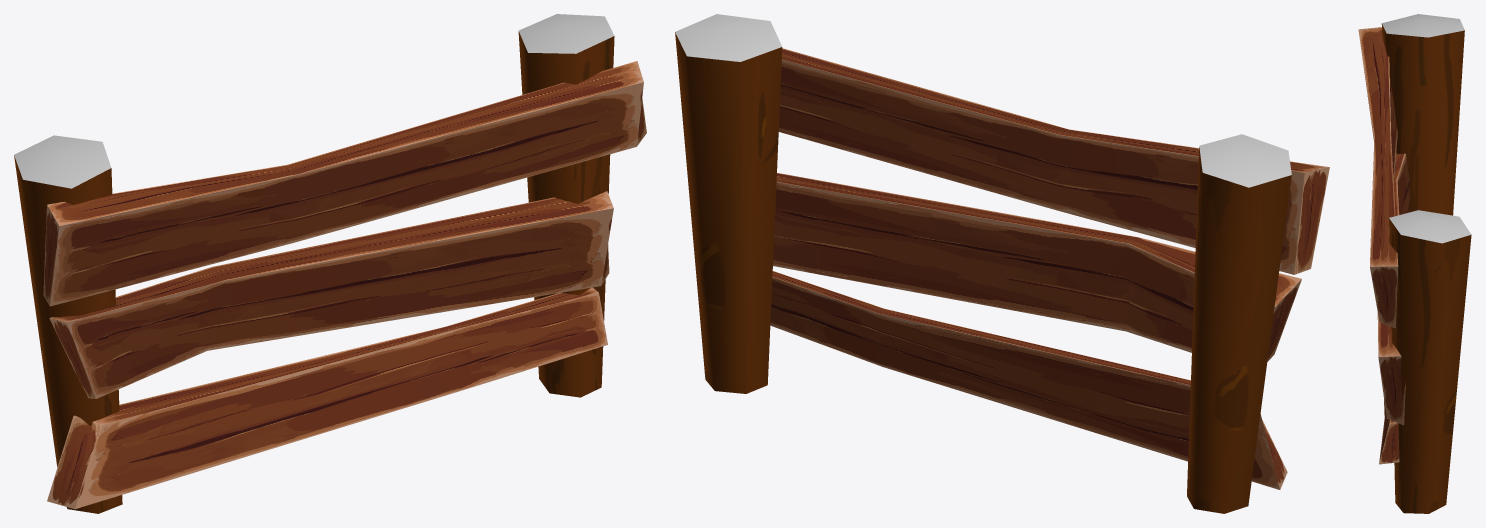
Rendered from SM_PROP_fence_v02_01.fbx.
3 renders of one model, left to right at view 1: azimuth 30°, elevation 25°; view 2: azimuth 150°, elevation 25°; view 3: azimuth 270°, elevation 25°, orthographic. The views are drawn at different scales.
Parts seen in each view (by area): view 1: SM_PROP_fence_v02_01; view 2: SM_PROP_fence_v02_01; view 3: SM_PROP_fence_v02_01.
Part boxes in pixels (<box>): SM_PROP_fence_v02_01: <box>14,14,646,513</box>; SM_PROP_fence_v02_01: <box>675,14,1329,513</box>; SM_PROP_fence_v02_01: <box>1358,14,1471,513</box>.
Size of the model in its own units: 211 by 117 by 41.86.
